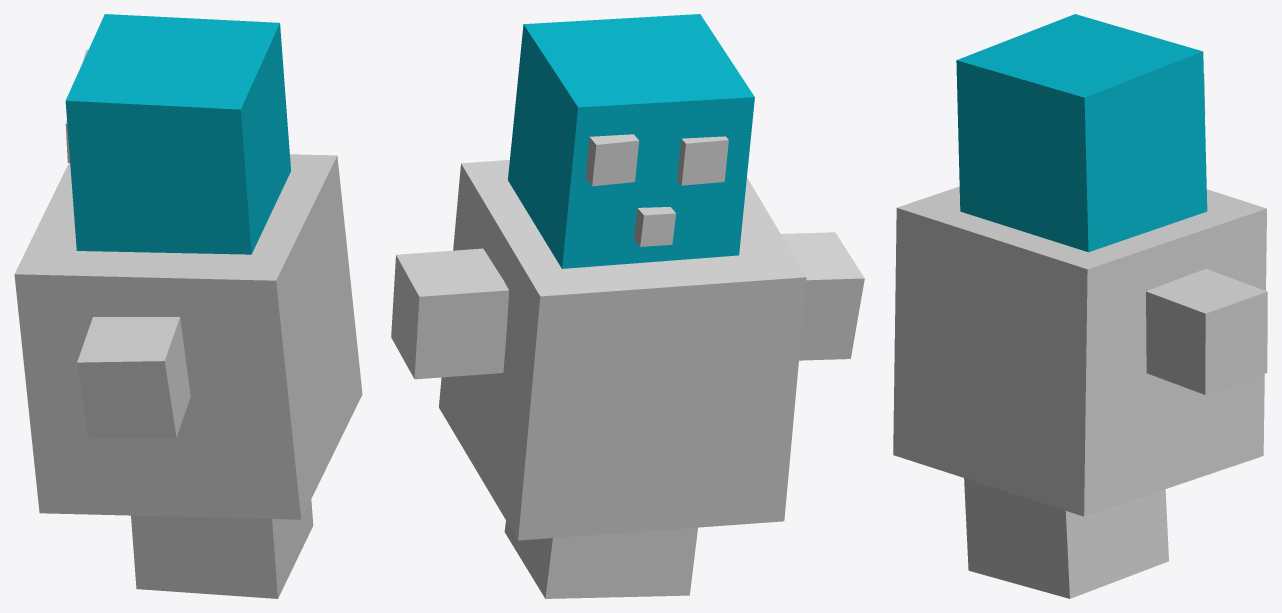
The model's file is Jeff Blocks.fbx.
The picture shows the model from 3 angles, left to right: view 1: azimuth 30°, elevation 25°; view 2: azimuth 150°, elevation 25°; view 3: azimuth 270°, elevation 25°; orthographic projection. The views are drawn at different scales.
Parts seen in each view (by area): view 1: mesh_1019859240, mesh_545159705, mesh_431278002, mesh_170091263; view 2: mesh_1019859240, mesh_545159705, mesh_1116896949, mesh_431278002, mesh_170091263, mesh_1032362230, mesh_1368366930, mesh_850544838; view 3: mesh_1019859240, mesh_545159705, mesh_431278002, mesh_1116896949.
Boxes of the visible parts, bbox=[...] form: mesh_1019859240: bbox=[14, 154, 362, 519]; mesh_545159705: bbox=[65, 14, 290, 254]; mesh_431278002: bbox=[131, 499, 313, 598]; mesh_170091263: bbox=[77, 317, 190, 439]; mesh_1019859240: bbox=[439, 160, 806, 540]; mesh_545159705: bbox=[508, 14, 754, 268]; mesh_1116896949: bbox=[391, 248, 509, 379]; mesh_431278002: bbox=[504, 521, 697, 598]; mesh_170091263: bbox=[781, 232, 864, 360]; mesh_1032362230: bbox=[585, 134, 639, 186]; mesh_1368366930: bbox=[677, 136, 728, 185]; mesh_850544838: bbox=[633, 207, 675, 246]; mesh_1019859240: bbox=[893, 186, 1266, 516]; mesh_545159705: bbox=[956, 14, 1207, 252]; mesh_431278002: bbox=[964, 478, 1168, 598]; mesh_1116896949: bbox=[1146, 268, 1267, 394].
Size of the model in its own units: 36.15 by 51.28 by 34.3.
